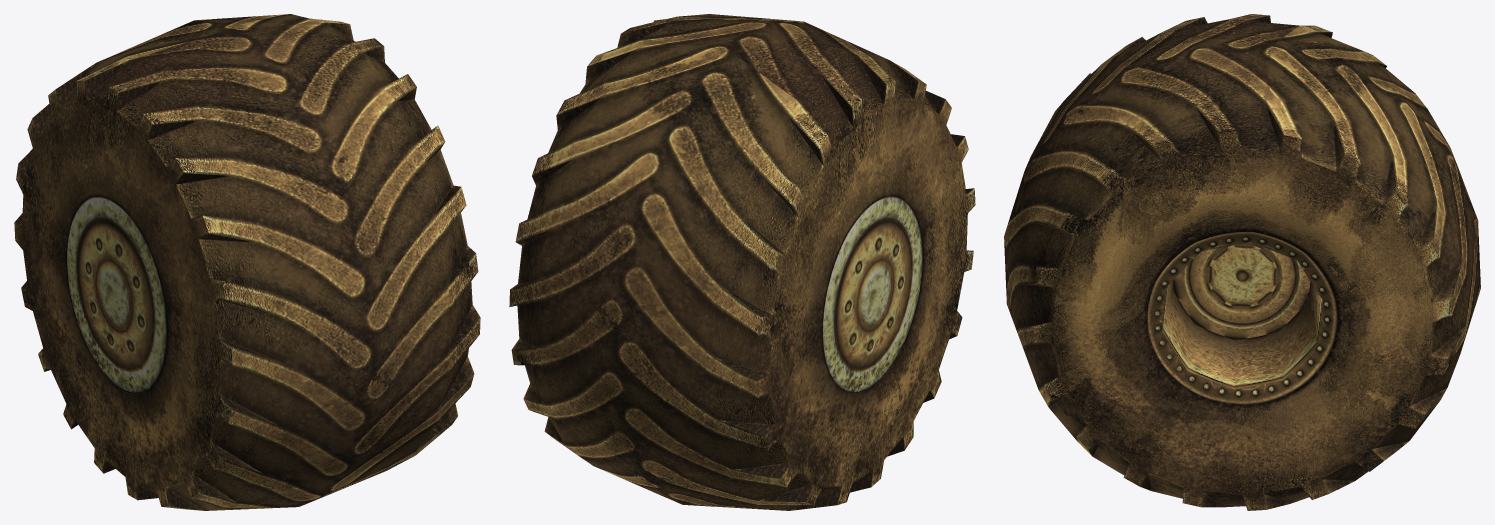
File: Full Tire LOD.fbx
3 views of the same model, side by side, from view 1: azimuth 30°, elevation 25°; view 2: azimuth 150°, elevation 25°; view 3: azimuth 270°, elevation 25° (orthographic). The views are drawn at different scales.
Parts seen in each view (by area): view 1: lod_0; view 2: lod_0; view 3: lod_0.
Boxes of the visible parts, x1,y1,x2,y2 form: lod_0: (14,14,480,510); lod_0: (509,14,975,510); lod_0: (1004,14,1480,510).
Size of what is drawn, in the model's own units: 388 by 620 by 620.
